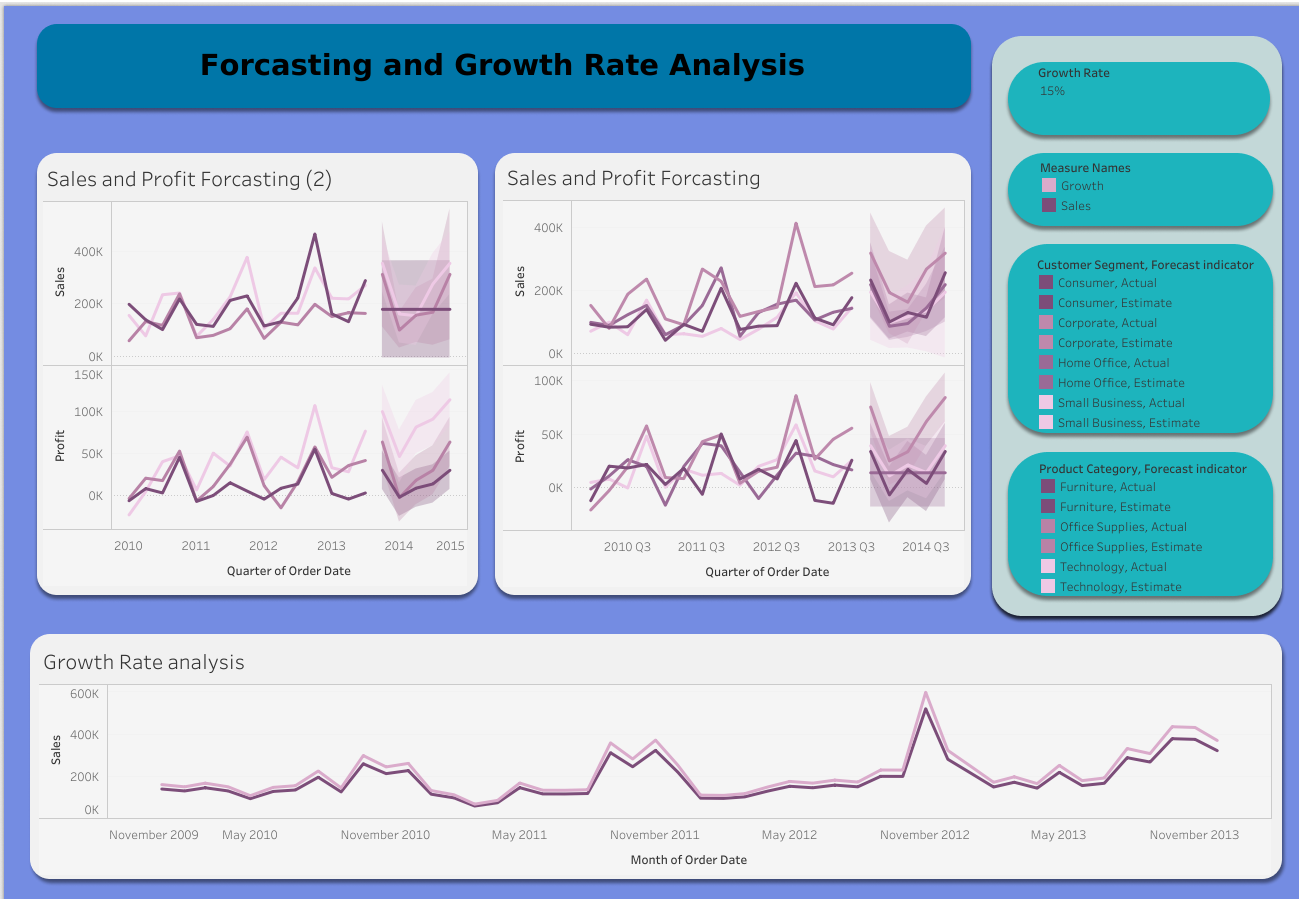

The page's visual inventory and layout, read from the dashboard file:
{"tool":"tableau","page":{"name":"Forcasting and Growth Rate Analysis","canvas":[1300,900],"ordinal":1},"visuals":[{"type":"worksheet","param":"Image/Election (Copy) (6).png","box":[0,2,1301,897]},{"type":"worksheet","box":[46,29,913,71]},{"type":"worksheet","param":"[Parameters].[Parameter 3]","box":[1038,62,208,75]},{"type":"worksheet","title":"Growth Rate Analysis","mark":"Automatic","rows":["Sales","Calculation_729301675860414471"],"cols":["Order Date"],"param":"[federated.0ah176d0ox5uv51gbola01vk91ev].[:Measure Names]","box":[1039,156,182,65]},{"type":"worksheet","title":"Sales and Profit Forcasting","mark":"Automatic","rows":["Sales","Profit"],"cols":["Order Date"],"box":[503,157,462,431]},{"type":"worksheet","title":"Sales and Profit Forcasting (2)","mark":"Automatic","rows":["Sales","Profit"],"cols":["Order Date"],"box":[43,158,425,429]},{"type":"worksheet","title":"Sales and Profit Forcasting","mark":"Automatic","rows":["Sales","Profit"],"cols":["Order Date"],"param":"[federated.0ah176d0ox5uv51gbola01vk91ev].[none:Customer Segment:nk]\n[federated.0","box":[1036,253,219,178]},{"type":"worksheet","title":"Sales and Profit Forcasting (2)","mark":"Automatic","rows":["Sales","Profit"],"cols":["Order Date"],"param":"[federated.0ah176d0ox5uv51gbola01vk91ev].[none:Product Category:nk]\n[federated.0","box":[1038,457,219,155]},{"type":"worksheet","title":"Growth Rate Analysis","mark":"Automatic","rows":["Sales","Calculation_729301675860414471"],"cols":["Order Date"],"box":[39,641,1233,235]}]}

Visuals, with their boxes in screenshot pixels (x1, y1, x2, y2), scaled from the page's 1300x900 canvas onto the 1299x899 screenshot:
worksheet: rect(0, 2, 1298, 898)
worksheet: rect(46, 29, 958, 100)
worksheet: rect(1037, 62, 1245, 137)
"Growth Rate Analysis" worksheet: rect(1038, 156, 1220, 221)
"Sales and Profit Forcasting" worksheet: rect(503, 157, 964, 587)
"Sales and Profit Forcasting (2)" worksheet: rect(43, 158, 468, 586)
"Sales and Profit Forcasting" worksheet: rect(1035, 253, 1254, 431)
"Sales and Profit Forcasting (2)" worksheet: rect(1037, 456, 1256, 611)
"Growth Rate Analysis" worksheet: rect(39, 640, 1271, 875)
